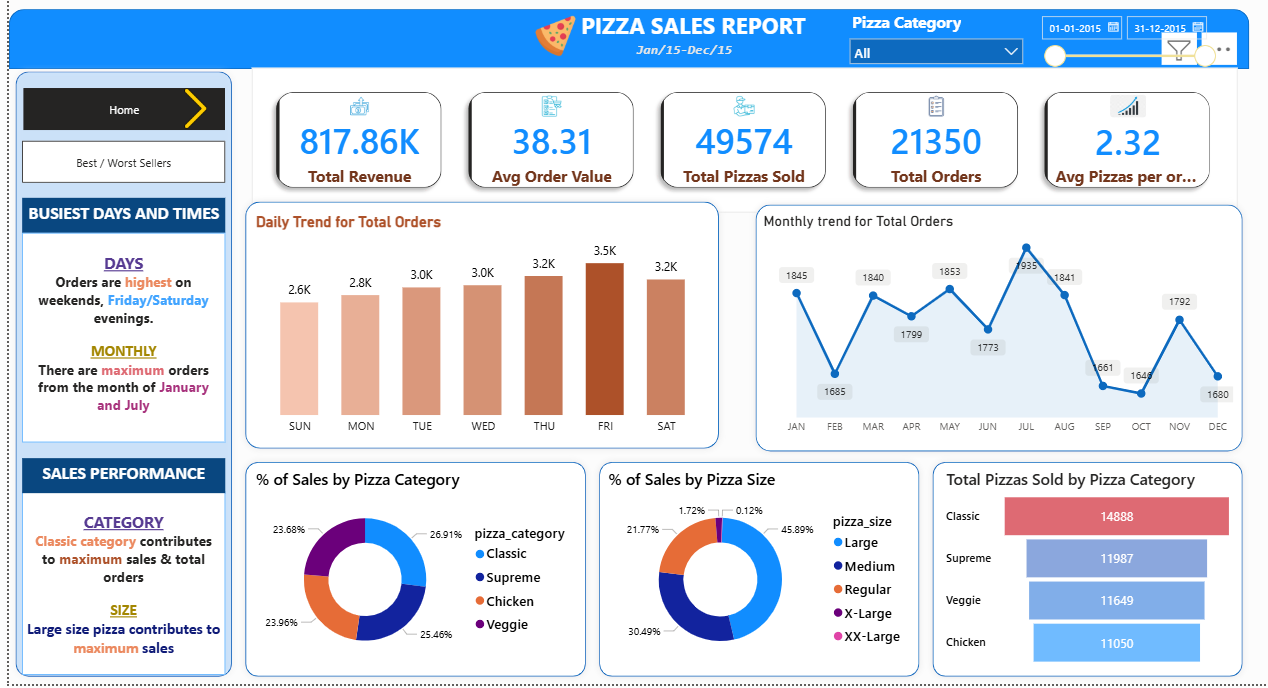

The dashboard page shown, as its layout file describes it:
{"tool":"powerbi","page":{"name":"Home","canvas":[1500,820],"ordinal":0},"visuals":[{"type":"shape","box":[0,15.7,1478.1,71.5],"z":0},{"type":"cardVisual","fields":{"Data":["pizza_sales.Total Revenue","pizza_sales.Avg Order Value","pizza_sales.Total Pizzas Sold","pizza_sales.Total Orders","pizza_sales.Avg Pizzas per order"]},"box":[289.3,85.4,1174.8,172.6],"z":1000},{"type":"textbox","box":[666.7,11.7,300,55],"z":2000},{"type":"textbox","box":[743.3,48.3,140,35],"z":3000},{"type":"image","box":[621.7,23.3,58.3,50],"z":4000},{"type":"shape","box":[273.7,237,580.4,310.3],"z":5000},{"type":"columnChart","title":"Daily Trend for Total Orders","fields":{"Category":["pizza_sales.Order Day"],"Y":["pizza_sales.Total Orders"]},"box":[289.3,258,552.5,273.7],"z":6000},{"type":"shape","box":[882,240.5,596.1,310.3],"z":7000},{"type":"areaChart","title":"Monthly trend for Total Orders","fields":{"Y":["pizza_sales.Total Orders"],"Category":["pizza_sales.Order Month"]},"box":[894.2,258,570,273.7],"z":8000},{"type":"shape","box":[273.7,547.3,421.8,271.9],"z":9000},{"type":"shape","box":[0,81.9,273.7,737.3],"z":10000},{"type":"textbox","box":[15.7,240.5,242.3,41.8],"z":11000},{"type":"shape","box":[695.5,547.3,397.4,271.9],"z":12000},{"type":"shape","box":[1092.9,547.3,385.2,271.9],"z":13000},{"type":"donutChart","title":"% of Sales by Pizza Category","fields":{"Category":["pizza_sales.pizza_category"],"Y":["pizza_sales.Total Revenue"]},"box":[289.3,563,390.4,240.5],"z":14000},{"type":"donutChart","title":"% of Sales by Pizza Size","fields":{"Y":["pizza_sales.Total Revenue"],"Category":["pizza_sales.pizza_size"]},"box":[709.4,563,371.3,240.5],"z":15000},{"type":"funnel","title":"Total Pizzas Sold by Pizza Category","fields":{"Category":["pizza_sales.pizza_category"],"Y":["pizza_sales.Total Pizzas Sold"]},"box":[1112,563,352.1,240.5],"z":16000},{"type":"textbox","box":[15.7,282.4,242.3,249.2],"z":17000},{"type":"textbox","box":[15.7,590.9,242.3,217.9],"z":18000},{"type":"textbox","box":[15.7,550.8,242.3,41.8],"z":19000},{"type":"slicer","fields":{"Values":["pizza_sales.pizza_category"]},"box":[991.8,13.9,226.6,71.5],"z":20000},{"type":"slicer","fields":{"Values":["pizza_sales.order_date"]},"box":[1218.4,13.9,228.3,71.5],"z":21000},{"type":"pageNavigator","box":[15.7,172.6,242.3,50.5],"z":22000},{"type":"pageNavigator","box":[17.4,109.8,240.5,50.5],"z":23000},{"type":"image","box":[186.5,109.8,71.5,48.8],"z":24000}]}

Visuals, with their boxes in screenshot pixels (x1, y1, x2, y2), scaled from the page's 1500x820 canvas onto the 1268x688 screenshot:
shape: locate(0, 13, 1249, 73)
cardVisual - pizza_sales.Total Revenue x pizza_sales.Avg Order Value: locate(245, 72, 1238, 216)
textbox: locate(564, 10, 817, 56)
textbox: locate(628, 41, 747, 70)
image: locate(526, 20, 575, 62)
shape: locate(231, 199, 722, 459)
"Daily Trend for Total Orders" columnChart: locate(245, 216, 712, 446)
shape: locate(746, 202, 1249, 462)
"Monthly trend for Total Orders" areaChart: locate(756, 216, 1238, 446)
shape: locate(231, 459, 588, 687)
shape: locate(0, 69, 231, 687)
textbox: locate(13, 202, 218, 237)
shape: locate(588, 459, 924, 687)
shape: locate(924, 459, 1249, 687)
"% of Sales by Pizza Category" donutChart: locate(245, 472, 575, 674)
"% of Sales by Pizza Size" donutChart: locate(600, 472, 914, 674)
"Total Pizzas Sold by Pizza Category" funnel: locate(940, 472, 1238, 674)
textbox: locate(13, 237, 218, 446)
textbox: locate(13, 496, 218, 679)
textbox: locate(13, 462, 218, 497)
slicer - pizza_sales.pizza_category: locate(838, 12, 1030, 72)
slicer - pizza_sales.order_date: locate(1030, 12, 1223, 72)
pageNavigator: locate(13, 145, 218, 187)
pageNavigator: locate(15, 92, 218, 134)
image: locate(158, 92, 218, 133)
